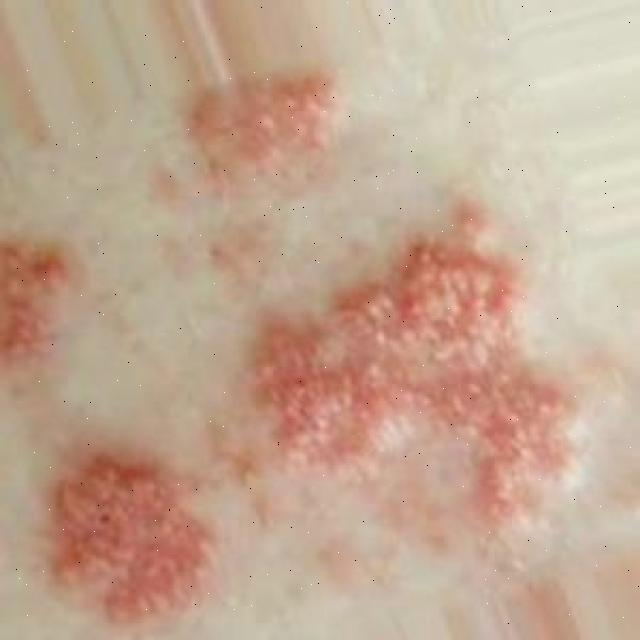Shingles: (250, 204, 579, 522), (52, 451, 214, 628), (183, 68, 338, 188), (0, 234, 80, 374)
